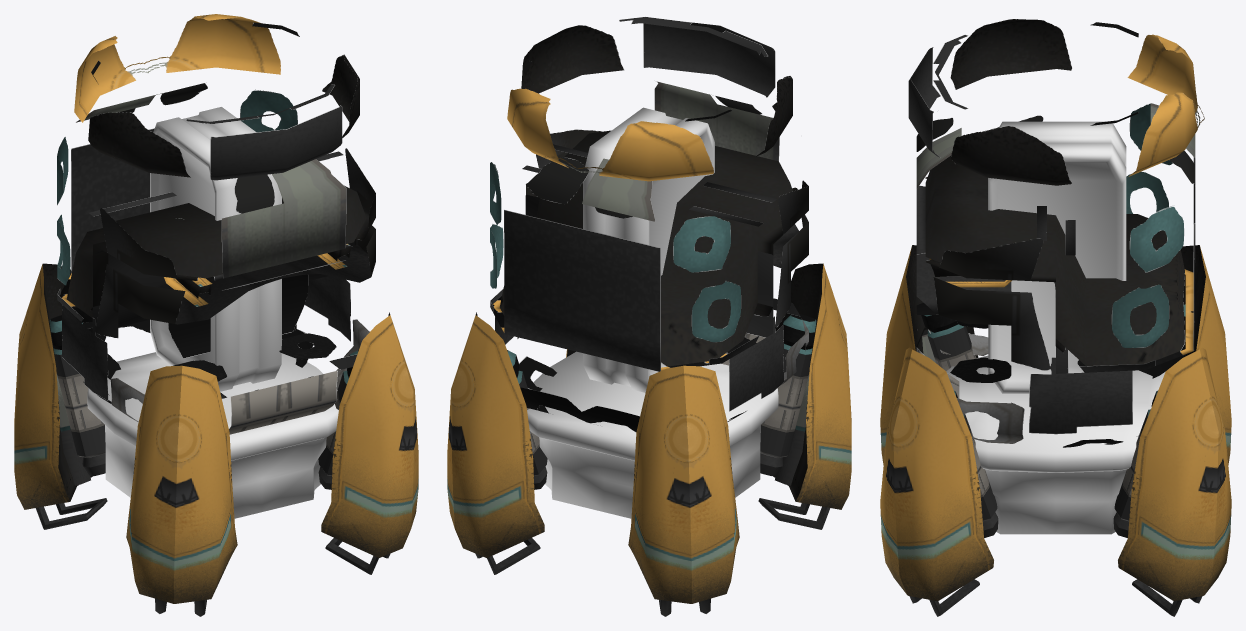
The model's file is HermitBroken.fbx.
3 views of the same model, side by side, from view 1: azimuth 30°, elevation 25°; view 2: azimuth 150°, elevation 25°; view 3: azimuth 270°, elevation 25° (orthographic). The views are drawn at different scales.
Parts seen in each view (by area): view 1: PlayerBottle, PlayerBottle.001, PlayerBottle.002, PlayerBottle.004, PlayerBottle.008, PlayerBottle.012, PlayerBottle.005, PlayerBottle.009; view 2: PlayerBottle, PlayerBottle.004, PlayerBottle.003, PlayerBottle.001, PlayerBottle.006, PlayerBottle.010, PlayerBottle.007, PlayerBottle.011; view 3: PlayerBottle, PlayerBottle.002, PlayerBottle.003, PlayerBottle.001, PlayerBottle.004, PlayerBottle.006, PlayerBottle.007, PlayerBottle.005, PlayerBottle.009, PlayerBottle.011.
Boxes of the visible parts, box(x1,y1,x2,y2) form: PlayerBottle: box(57, 14, 375, 518); PlayerBottle.001: box(126, 365, 237, 603); PlayerBottle.002: box(321, 312, 418, 557); PlayerBottle.004: box(14, 263, 93, 509); PlayerBottle.008: box(49, 315, 105, 475); PlayerBottle.012: box(35, 498, 107, 529); PlayerBottle.005: box(318, 350, 358, 489); PlayerBottle.009: box(325, 538, 390, 574); PlayerBottle: box(490, 16, 808, 518); PlayerBottle.004: box(628, 365, 739, 603); PlayerBottle.003: box(447, 312, 544, 557); PlayerBottle.001: box(773, 263, 851, 509); PlayerBottle.006: box(760, 314, 816, 475); PlayerBottle.010: box(758, 498, 830, 529); PlayerBottle.007: box(507, 350, 547, 489); PlayerBottle.011: box(475, 538, 540, 574); PlayerBottle: box(908, 19, 1204, 534); PlayerBottle.002: box(880, 347, 993, 601); PlayerBottle.003: box(1118, 347, 1231, 601); PlayerBottle.001: box(880, 245, 978, 464); PlayerBottle.004: box(1181, 245, 1231, 464); PlayerBottle.006: box(921, 315, 976, 370); PlayerBottle.007: box(1113, 390, 1157, 537); PlayerBottle.005: box(954, 390, 998, 537); PlayerBottle.009: box(909, 579, 979, 616); PlayerBottle.011: box(1132, 579, 1202, 616).
Bounding box in the file's own units: 35.01 × 55.34 × 36.09.
